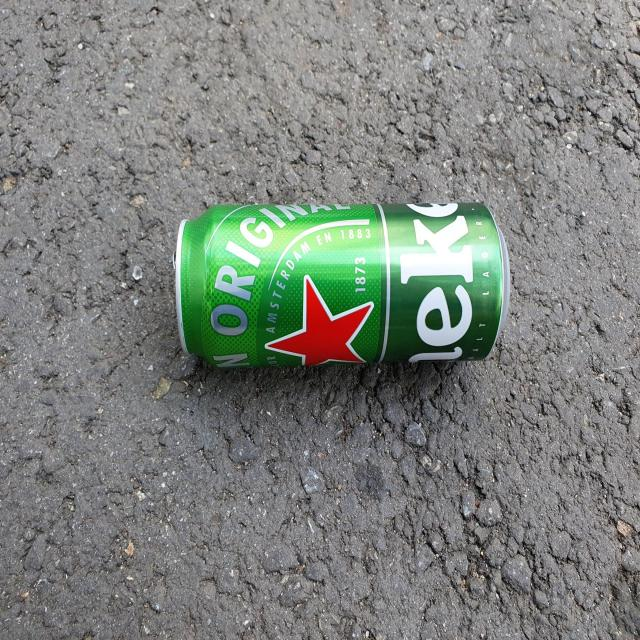can: (175, 202, 511, 368)
